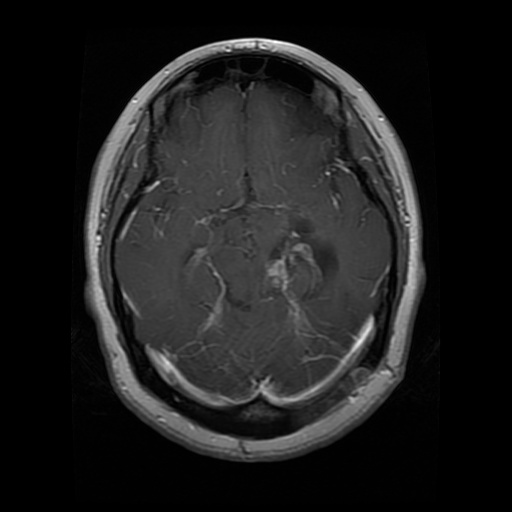glioma: (256, 203, 343, 306)
